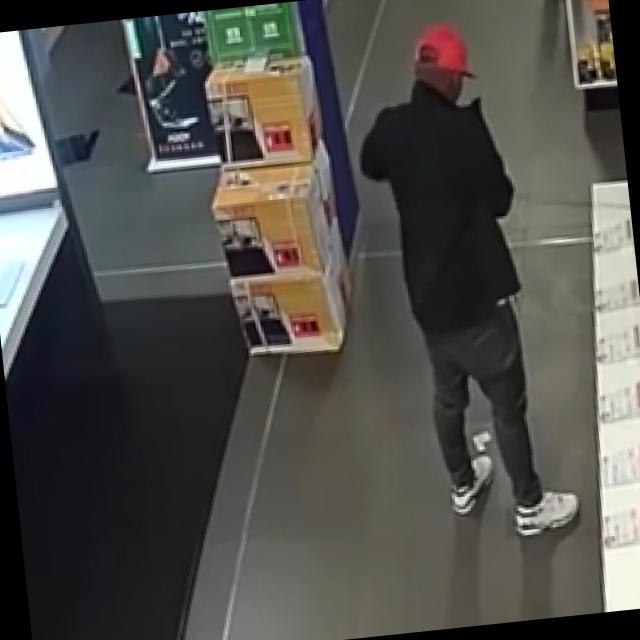person: (345, 15, 578, 548)
